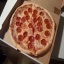pepperoni: (43, 18, 52, 32), (31, 8, 38, 25), (17, 15, 27, 26), (16, 32, 29, 40), (26, 35, 33, 48), (36, 22, 44, 32), (38, 38, 48, 45), (33, 33, 41, 40)
pizza: (8, 4, 56, 55)
